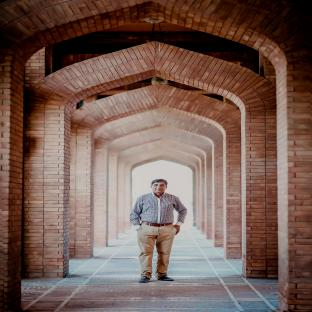Human: (130, 179, 187, 283)
